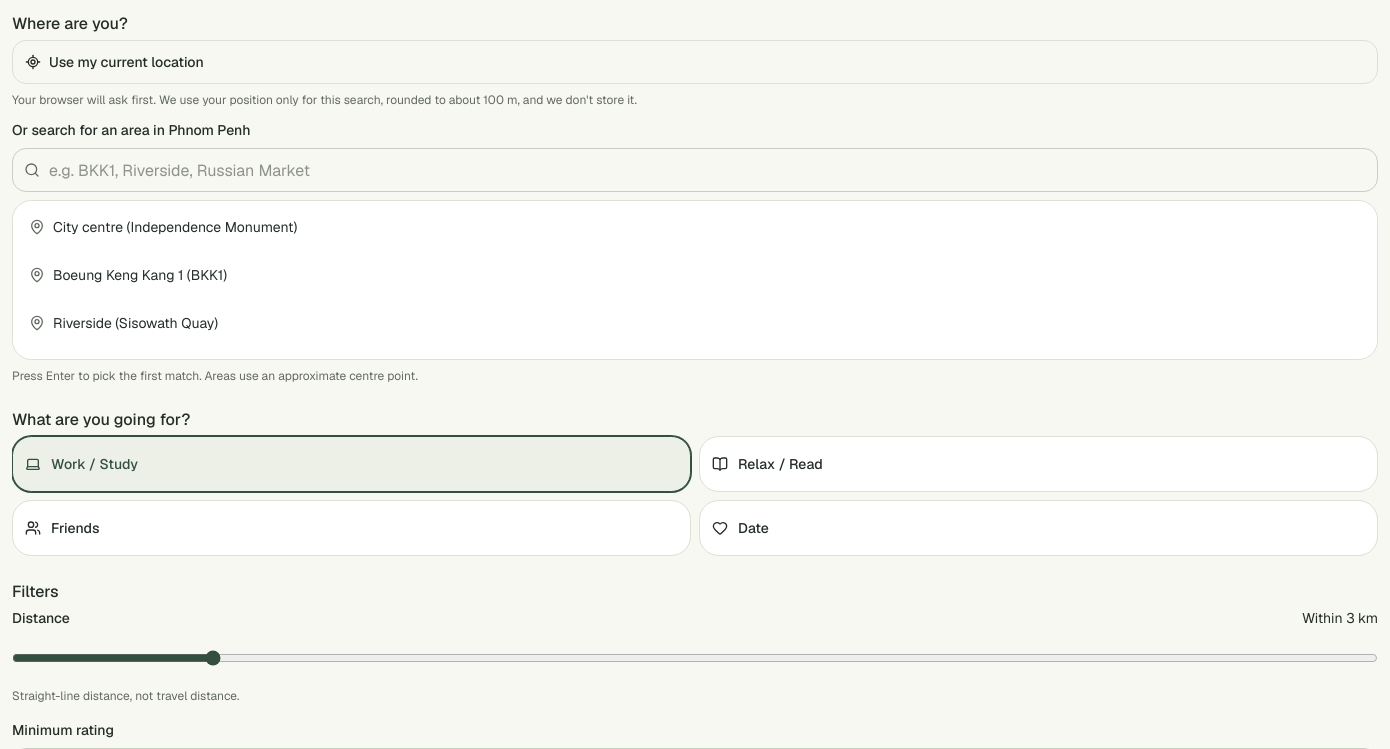
Test case: DiscoveryForm › geolocation › warns when the reported position is imprecise
What coordinates should you click on to do the following:
click the button "Use my current location"
I would click on:
 (126, 62)
Its box is [12, 40, 1378, 84].
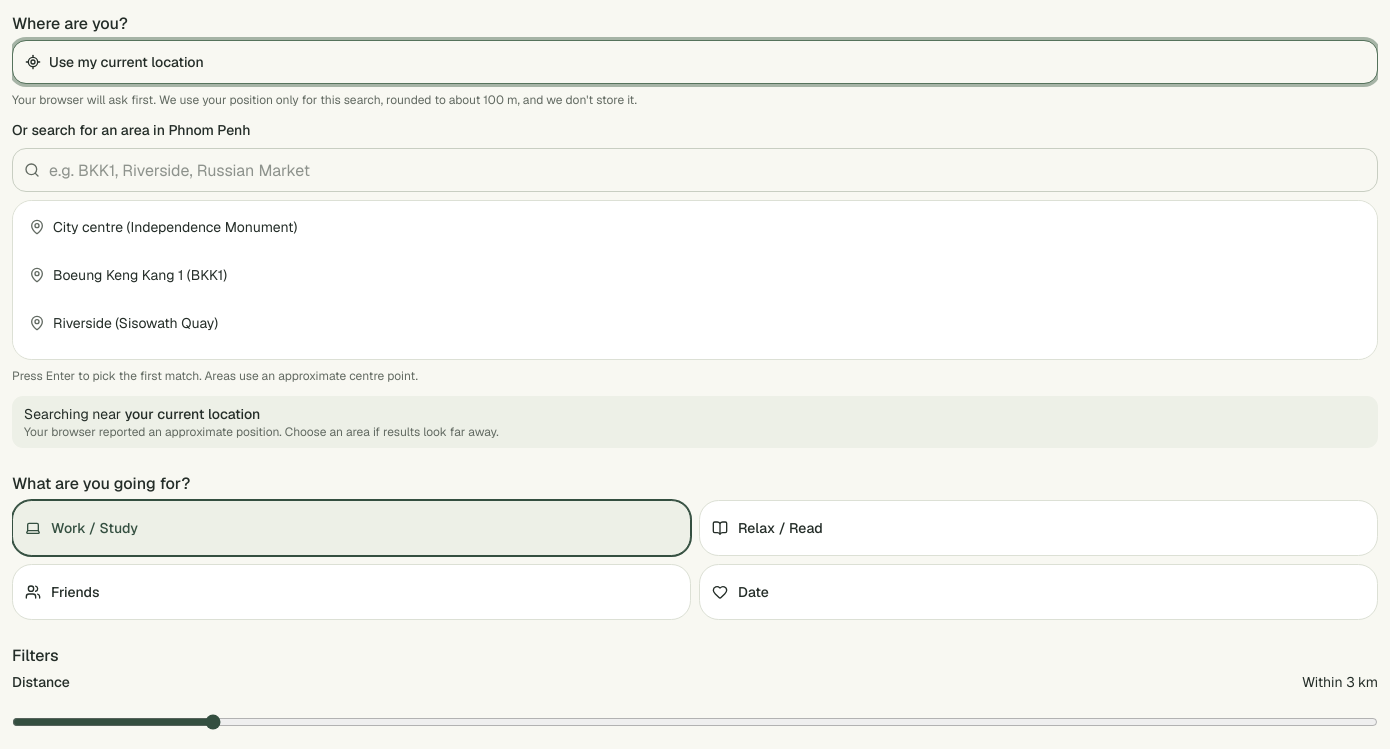
Expected: the text "approximate position" is shown, [24, 424, 499, 440]
